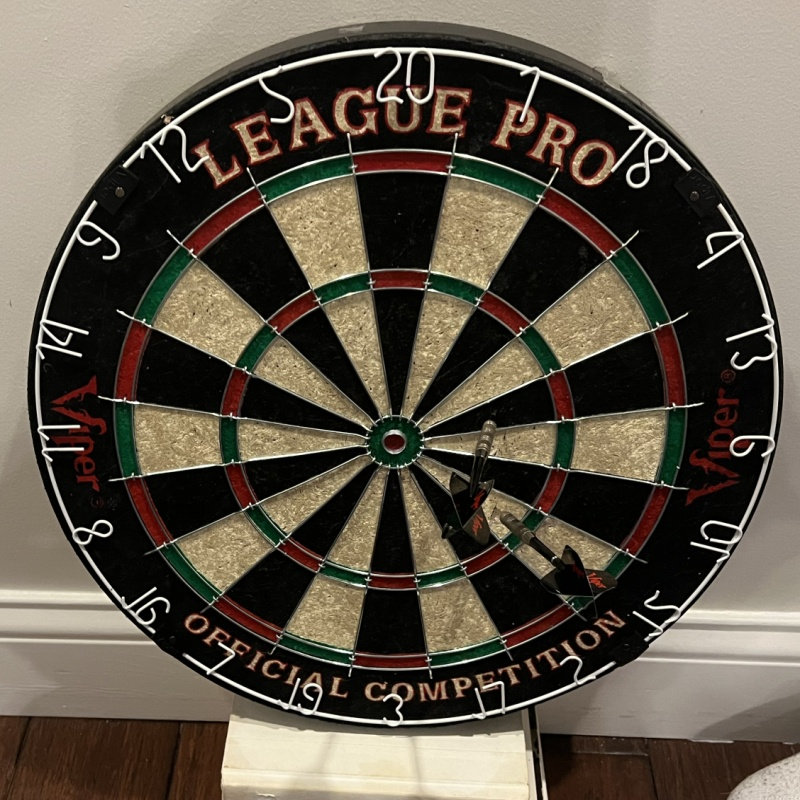dart: (490, 502, 517, 528), (481, 416, 499, 440)
eleven: (36, 422, 85, 462)
six: (731, 433, 776, 458)
three: (379, 692, 409, 728)
twenty: (371, 44, 437, 106)
